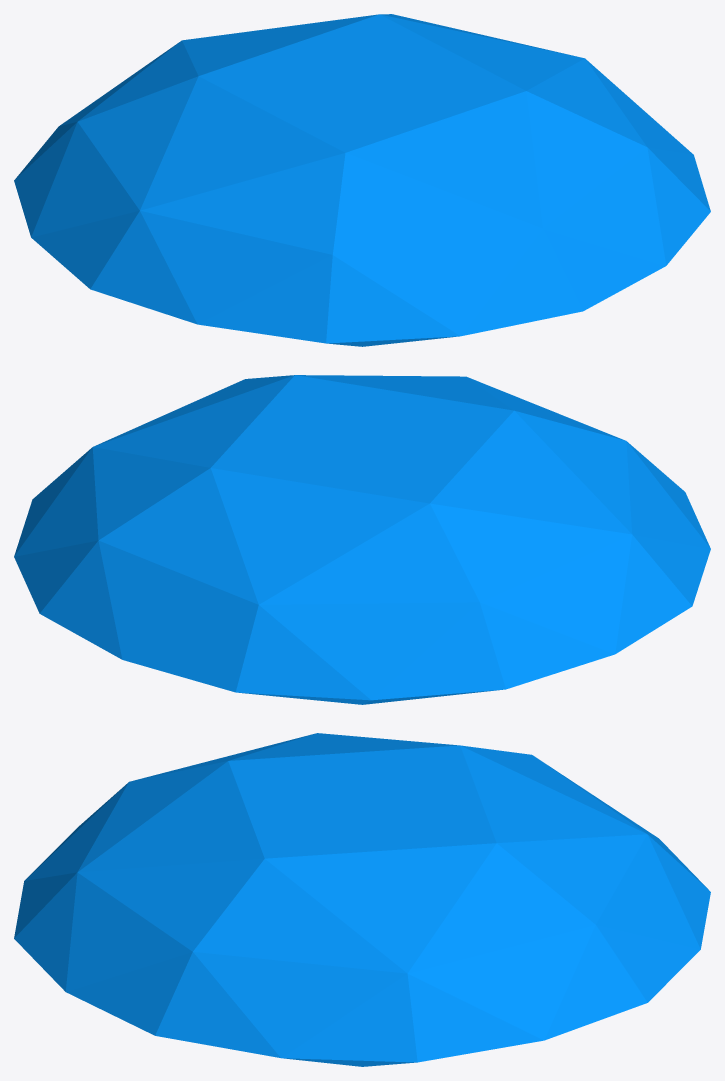
The model's file is Blue Gem.obj.
3 views of the same model, one above another, from view 1: azimuth 30°, elevation 25°; view 2: azimuth 150°, elevation 25°; view 3: azimuth 270°, elevation 25° (orthographic).
Visible parts, largest first — view 1: BlueGem; view 2: BlueGem; view 3: BlueGem.
Part boxes in pixels (x1,y1,x2,y2): BlueGem: (14,14,710,346); BlueGem: (14,375,710,704); BlueGem: (14,733,710,1066).
Size of the model in its own units: 7.33 by 3.08 by 7.34.
1 material, 1 textured.
